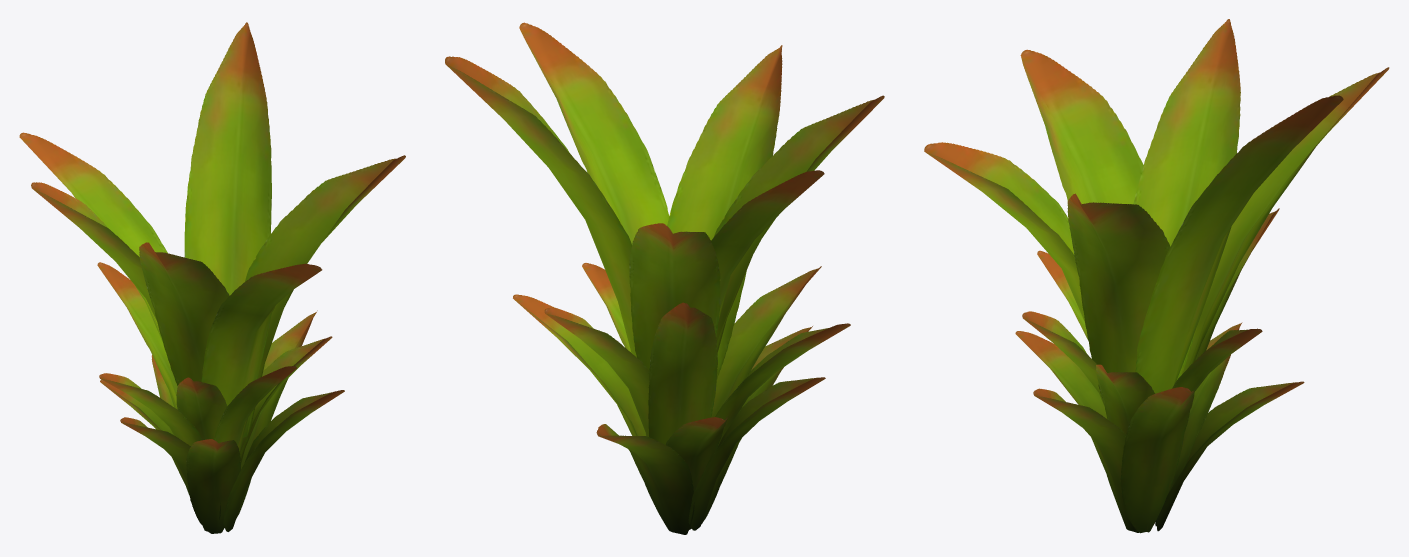
Rendered from plante-1-grande.glb.
3 renders of one model, left to right at view 1: azimuth 30°, elevation 25°; view 2: azimuth 150°, elevation 25°; view 3: azimuth 270°, elevation 25°, orthographic. The views are drawn at different scales.
Visible parts, largest first — view 1: Plant_1_Big; view 2: Plant_1_Big; view 3: Plant_1_Big.
Part boxes in pixels (left/top/right/bottom): Plant_1_Big: left=19, top=22, right=405, bottom=533; Plant_1_Big: left=445, top=22, right=884, bottom=534; Plant_1_Big: left=924, top=19, right=1389, bottom=533.
Bounding box in the file's own units: 1.81 × 2.35 × 1.95.
Materials: 1 (1 with a texture image).
